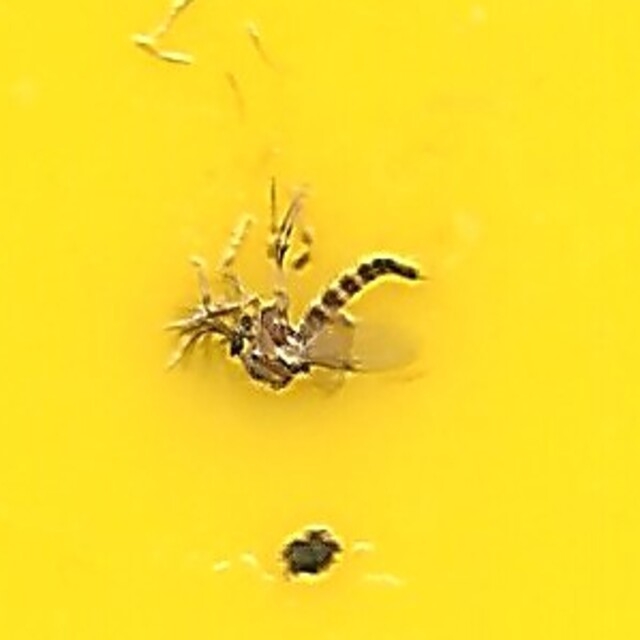Nematocera: (214, 240, 426, 400)
